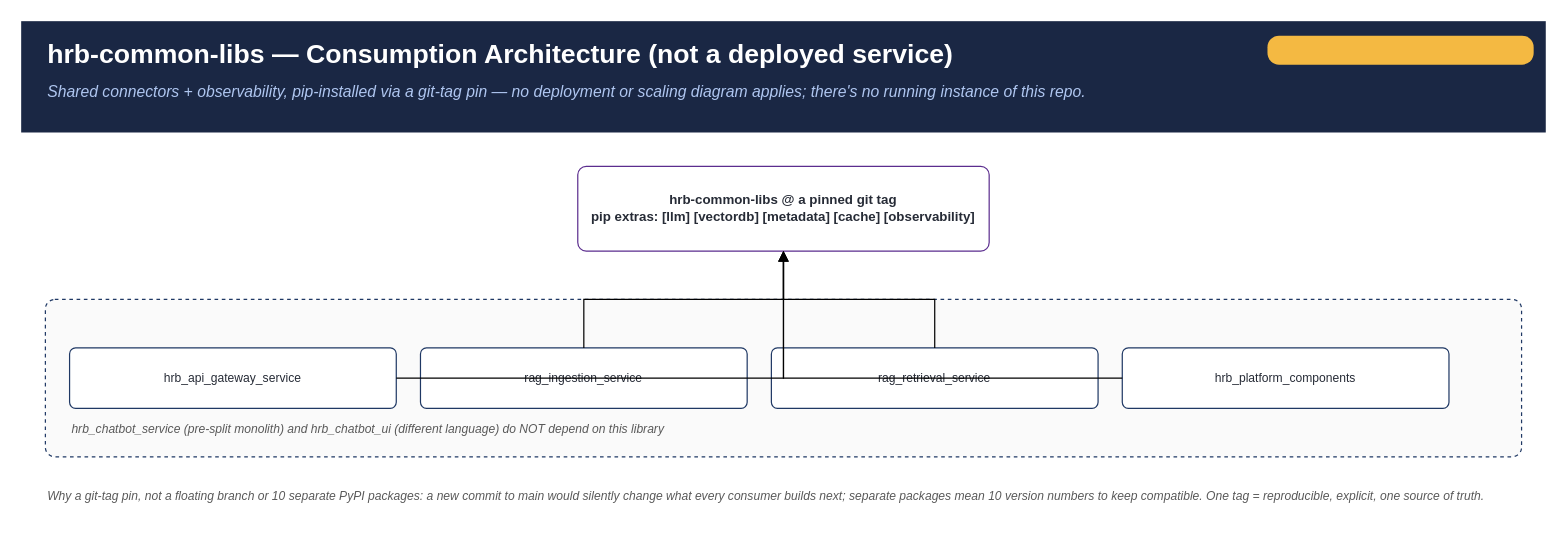
The diagram is 1566 pixels wide and 549 high, and some of its shapes have lost their labels. Each missing label, with the box of its shape:
Consumers — 4 of 6 real deployables, each builder stage re-clones the pinned tag: (44, 298, 1522, 457)
VIEW · library, not a service: (1267, 35, 1533, 64)
